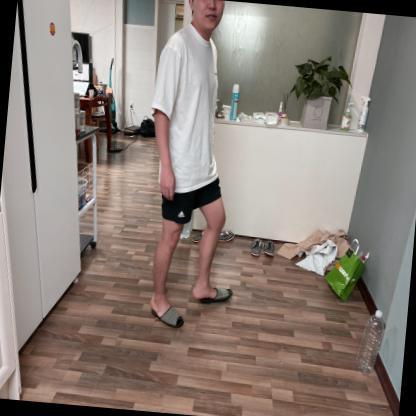no_safety-shoe: (190, 276, 245, 317), (144, 294, 187, 341)
